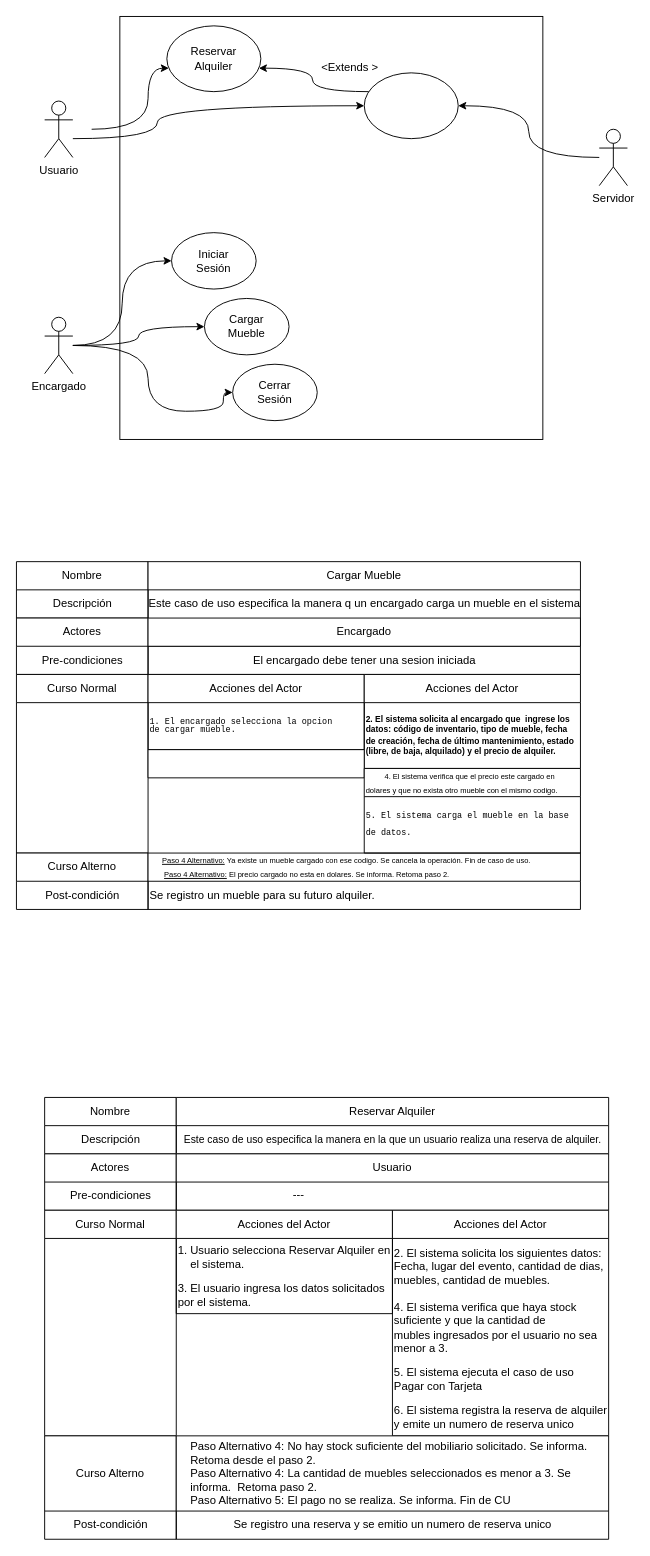
The diagram is 650 pixels wide and 1556 high, and some of its shapes have lost their labels. Here are the shapes that lost their labels. From the top down, the box of each, then its label:
(363, 72, 458, 139): Pagar con Tarjeta
(147, 749, 364, 778): 3. El encargado ingresa los datos requeridos por el sistema.
